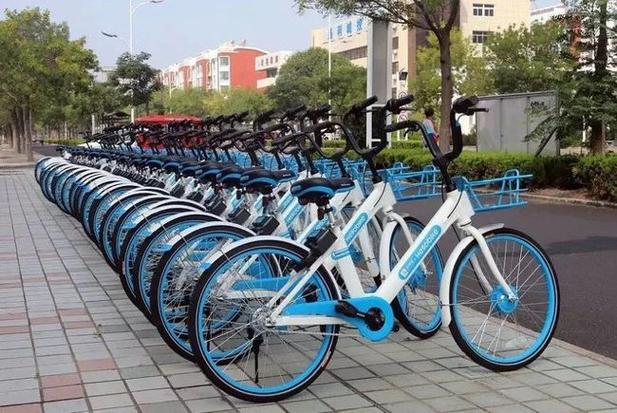单车: (167, 96, 577, 400)
